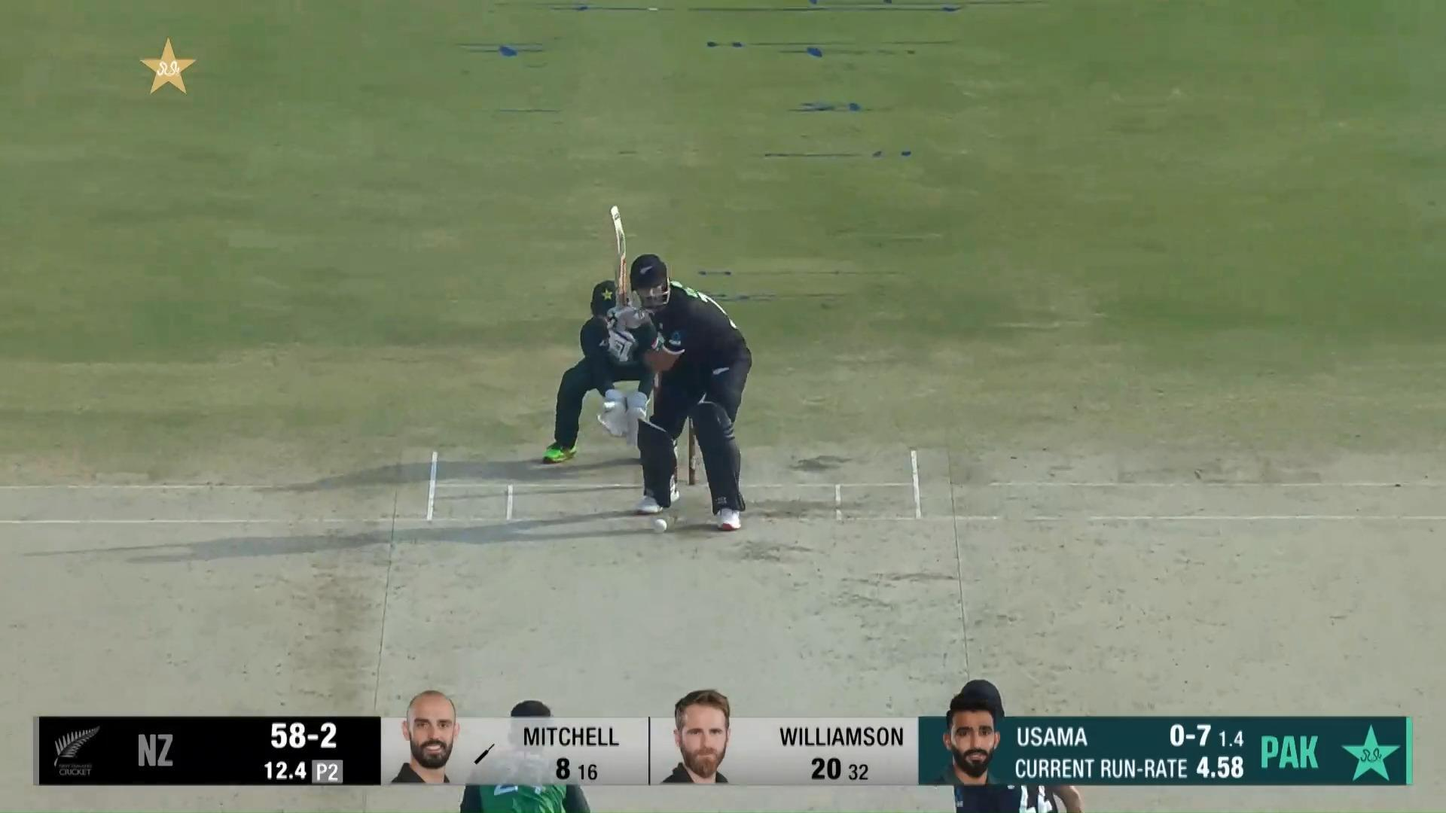BM 1: (607, 203, 753, 533)
BO: (461, 699, 591, 813)
